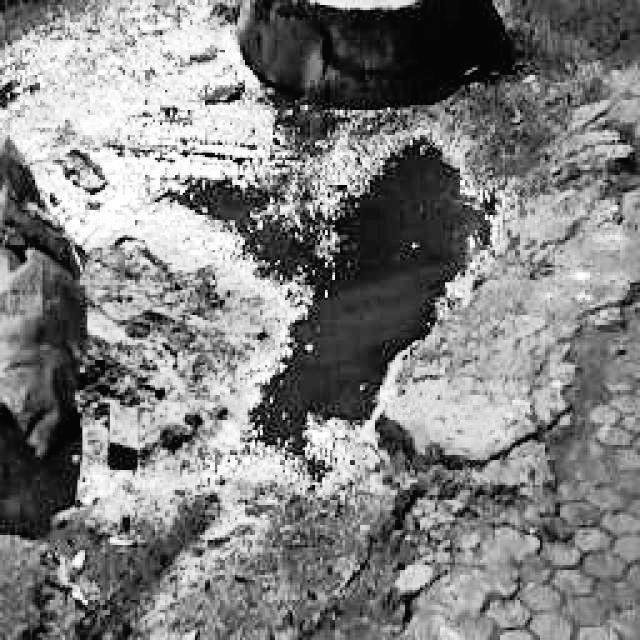Pothole: (154, 126, 528, 470)
